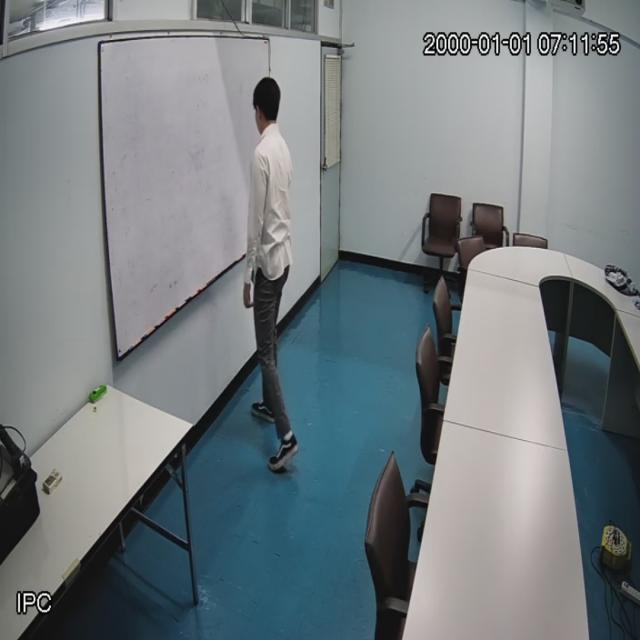normal: (244, 76, 298, 468)
